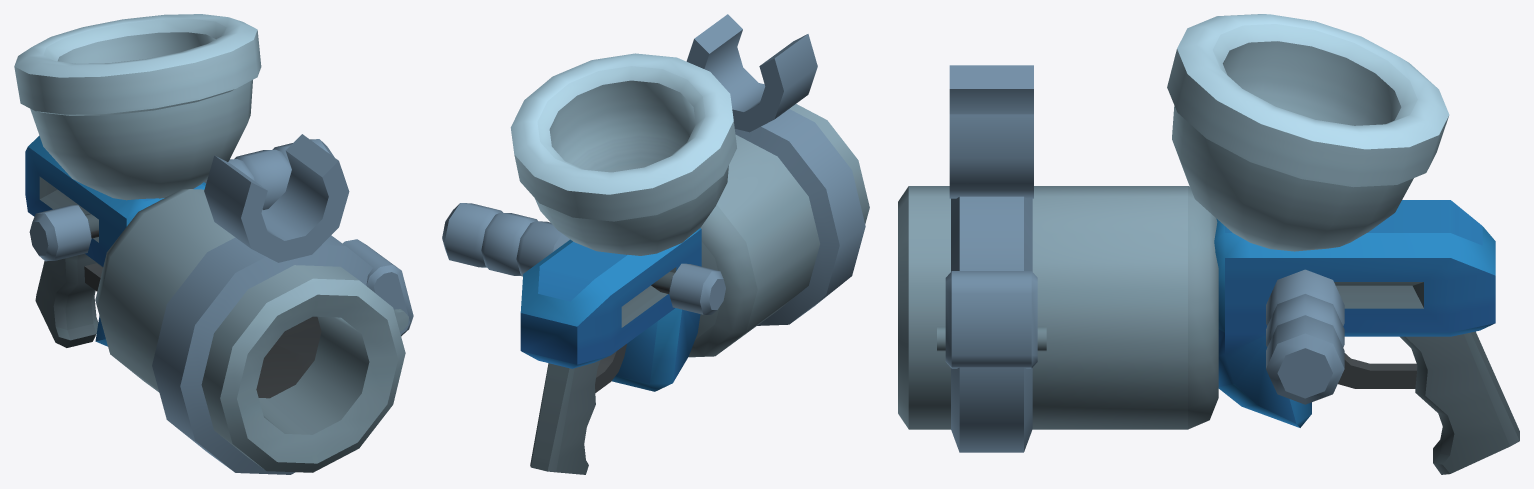
Rendered from kk_holiday_givre_canon.glb.
The picture shows the model from 3 angles, left to right: view 1: azimuth 30°, elevation 25°; view 2: azimuth 150°, elevation 25°; view 3: azimuth 270°, elevation 25°; orthographic projection. The views are drawn at different scales.
Visible parts, largest first — view 1: snowball_cannon; view 2: snowball_cannon; view 3: snowball_cannon.
Boxes of the visible parts, bbox=[...] form: snowball_cannon: bbox=[14, 14, 413, 474]; snowball_cannon: bbox=[442, 14, 869, 474]; snowball_cannon: bbox=[898, 14, 1519, 474].
Bounding box in the file's own units: 0.6016 × 0.714 × 0.9509.
Materials: 1 (1 with a texture image).
